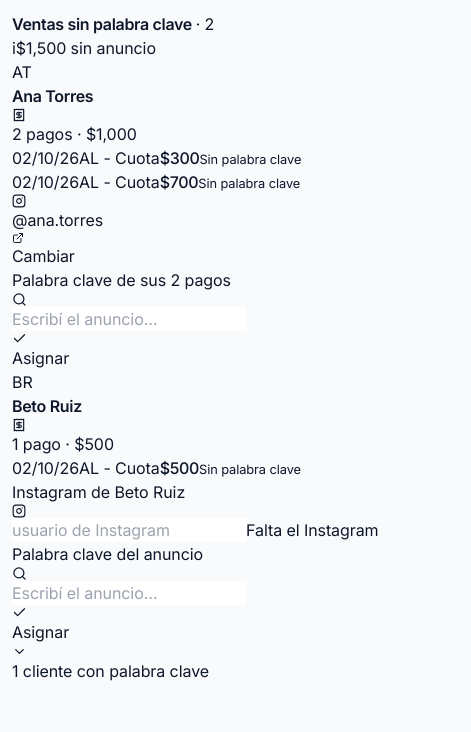
Scenario: Mis agendas › Ventas sin palabra clave › muestra un cliente por tarjeta con sus pagos, y la palabra clave va a todos
expect the text "2 pagos · $1,000" is shown: met, box [12, 108, 137, 144]
expect the text "Sin palabra clave" is shown 2 times: met, box [200, 152, 301, 167]; [198, 176, 300, 191]
Type "guia" into the dropdown labelled "Palabra clave de sus 2 pagos" at (129, 319), box [12, 307, 246, 331]
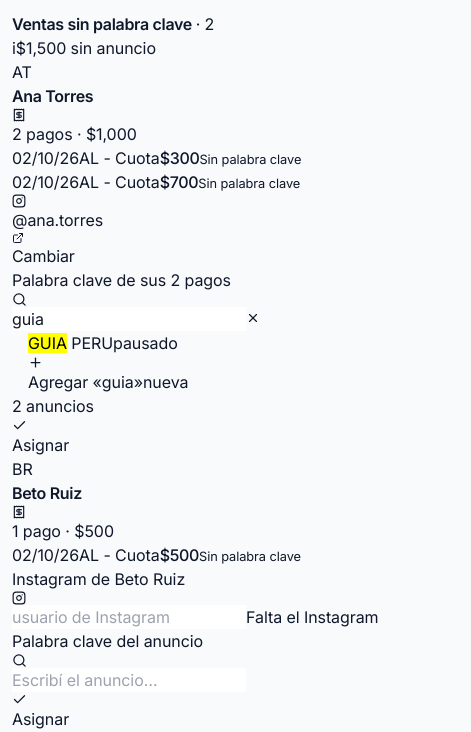
Press Enter
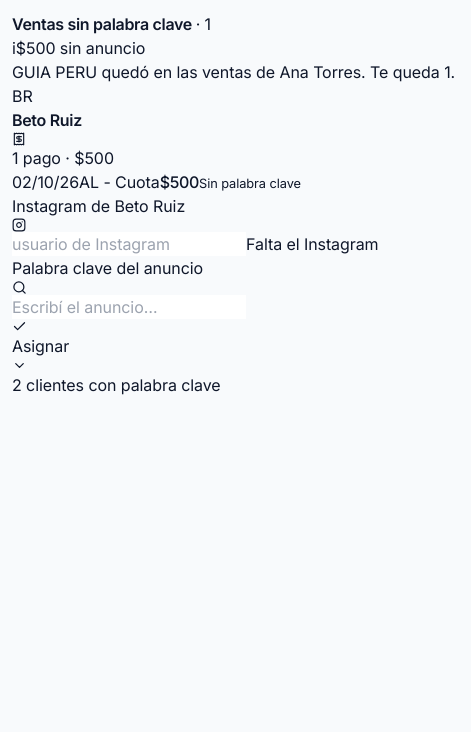
Click the button "2 clientes con palabra clave" at (116, 378), box [12, 358, 221, 397]
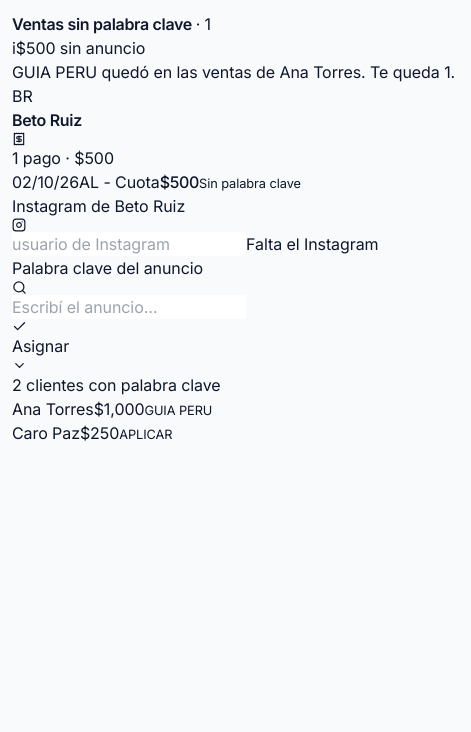
expect the text "GUIA PERU" is shown: met, box [144, 403, 212, 418]
